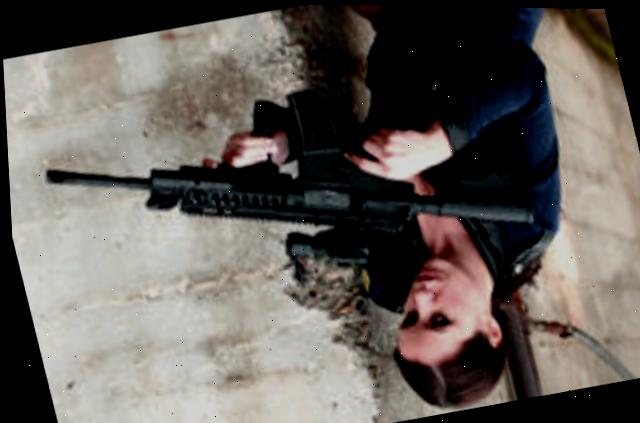rifle: (22, 32, 548, 329)
